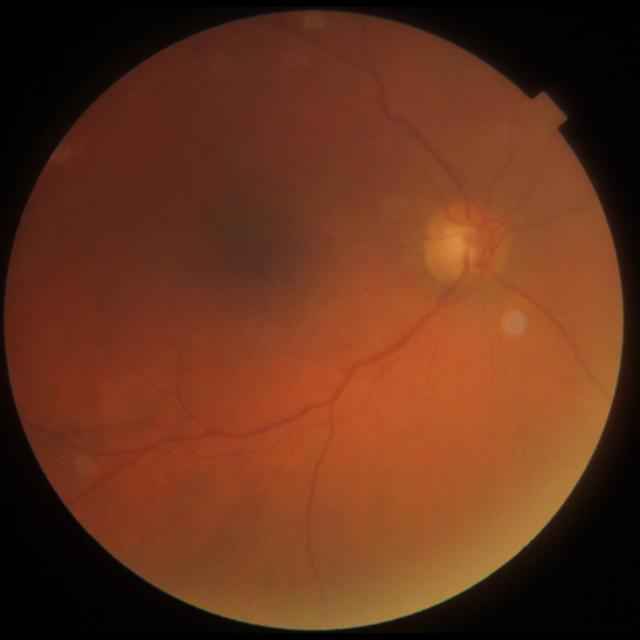OC: (448, 225, 479, 257)
OD: (421, 200, 509, 286)
